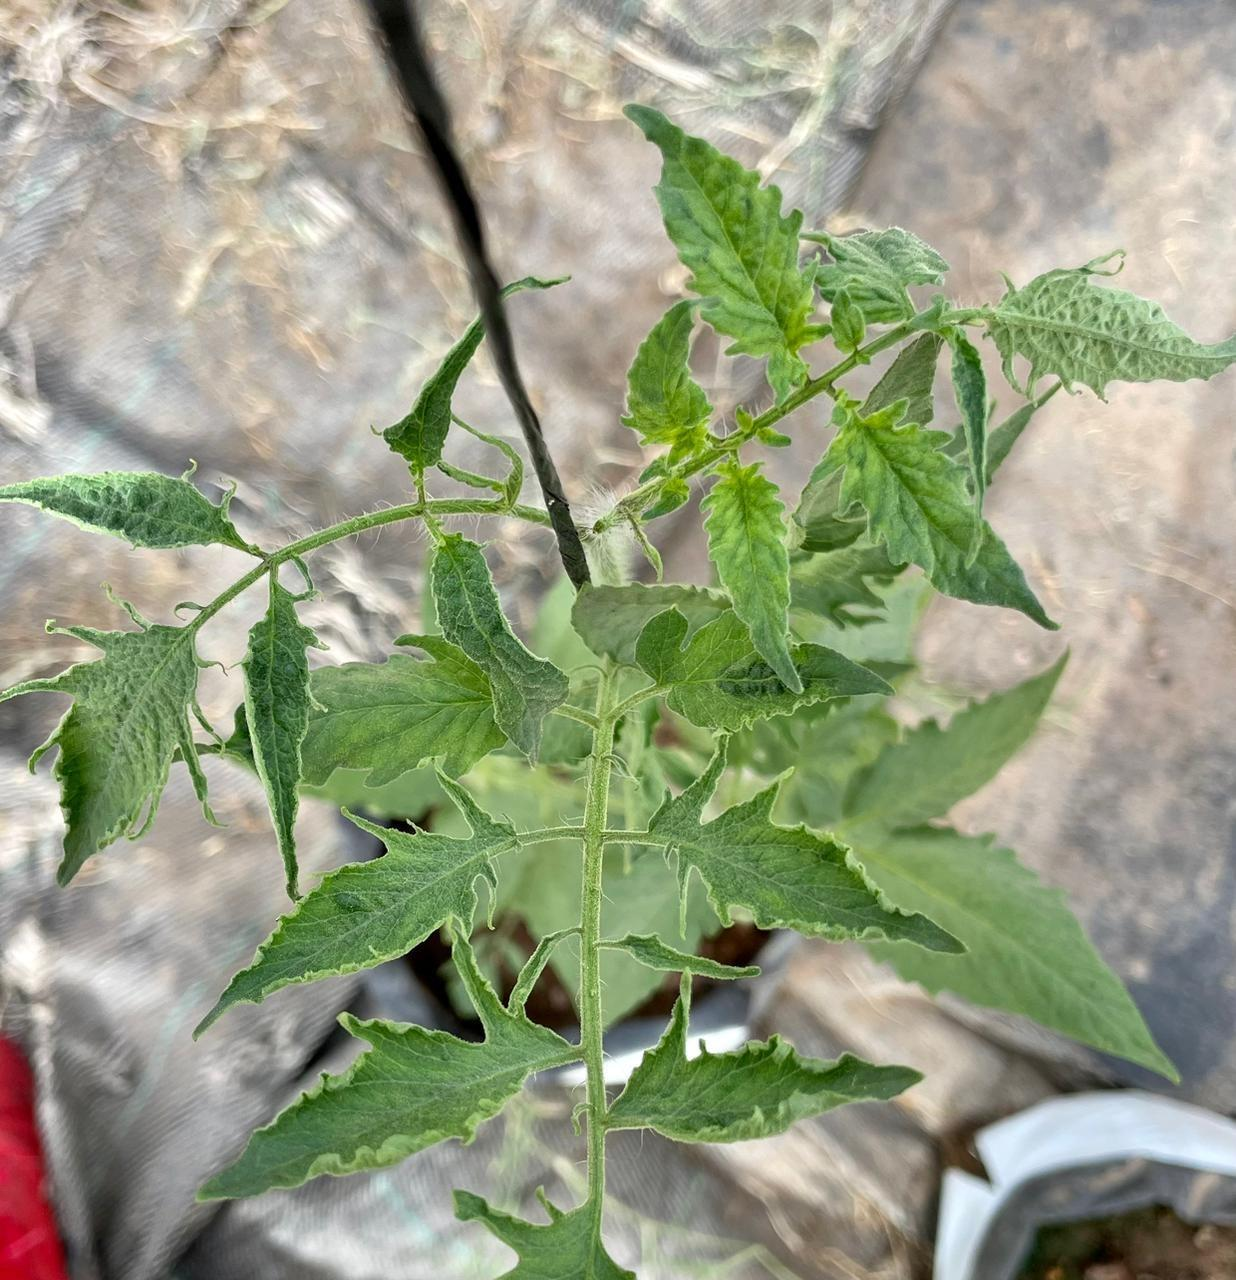Hoja rugoso: (200, 945, 580, 1200), (200, 777, 517, 1030), (648, 760, 963, 952), (627, 105, 820, 398), (2, 625, 210, 885), (825, 402, 1056, 627), (608, 1008, 920, 1143), (987, 253, 1235, 398), (637, 608, 890, 730), (433, 535, 568, 760), (303, 635, 505, 785), (242, 570, 318, 901), (703, 457, 800, 693), (1, 472, 263, 555), (383, 320, 485, 478), (814, 227, 947, 347), (623, 299, 713, 463), (601, 935, 760, 981)
Pedunculo rugoso: (580, 680, 615, 1103)
